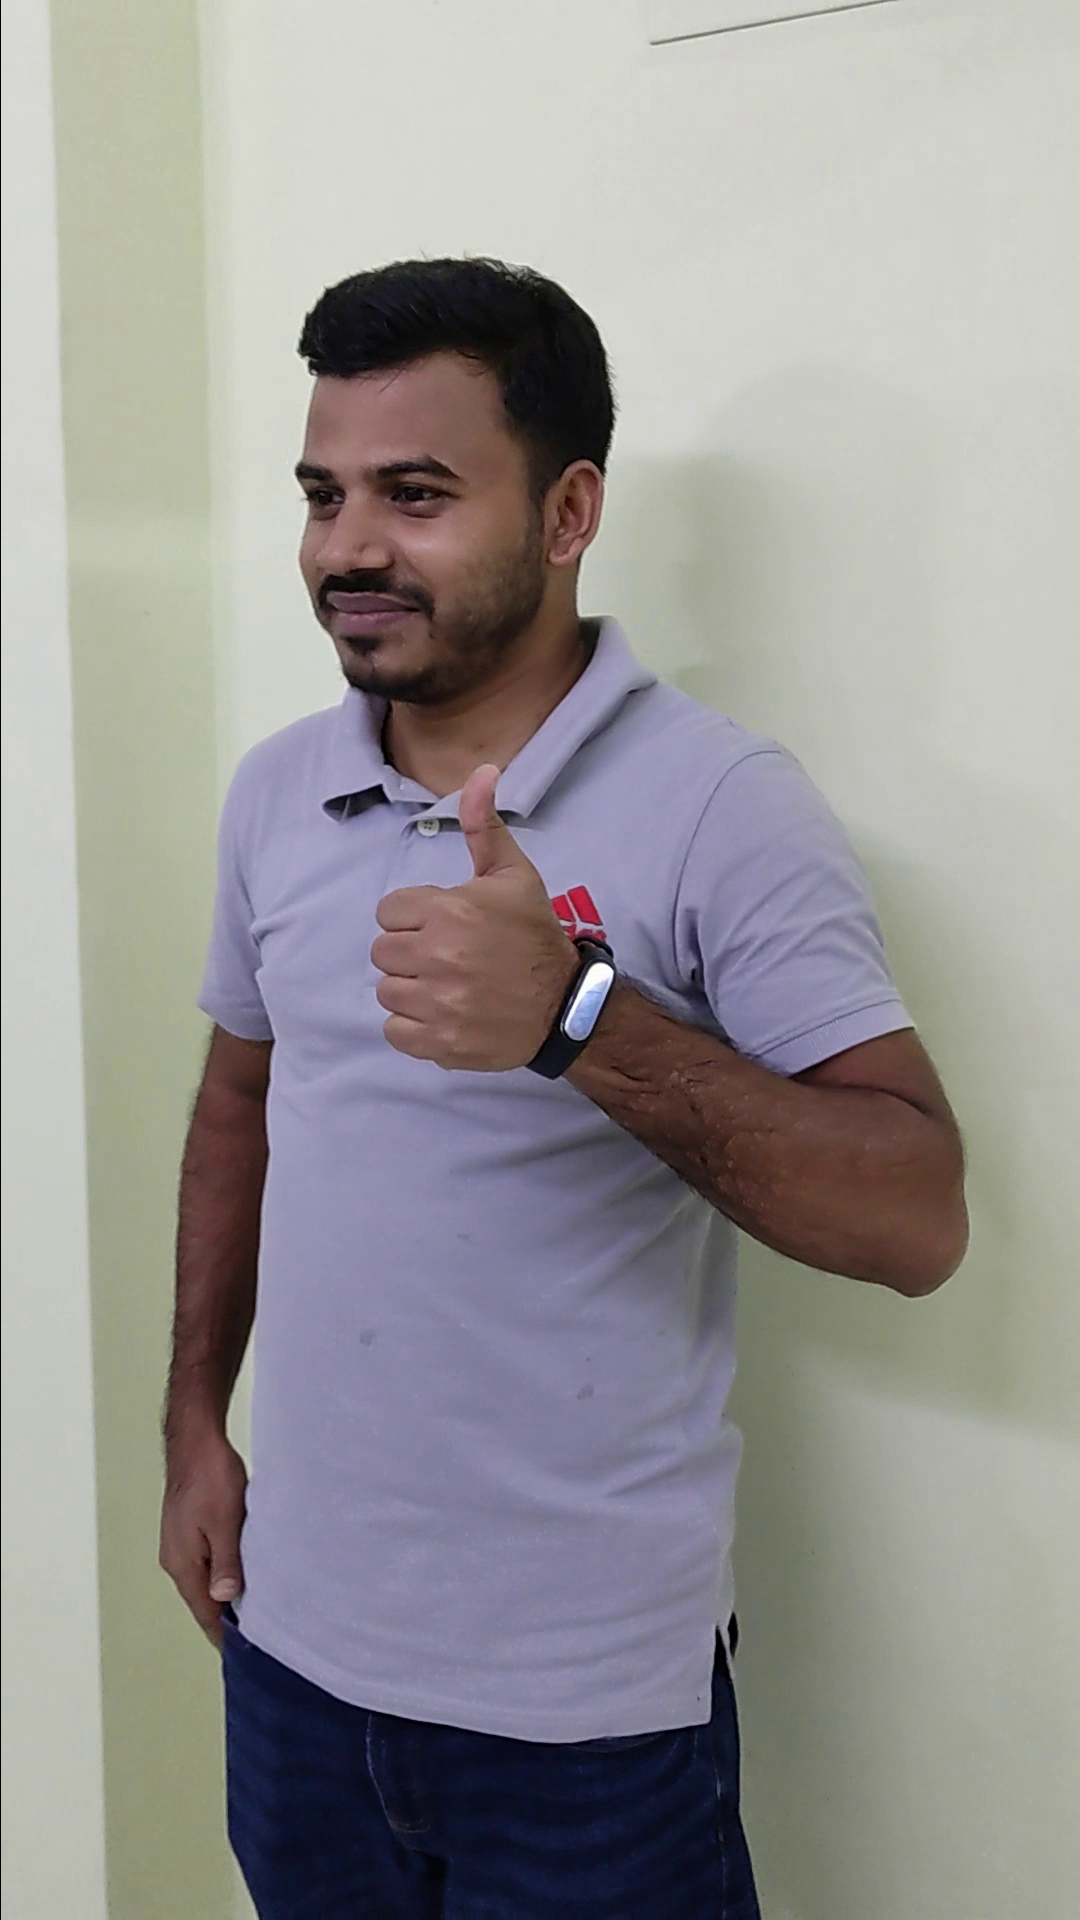Like: (352, 749, 592, 1087)
None: (120, 1385, 268, 1677)
